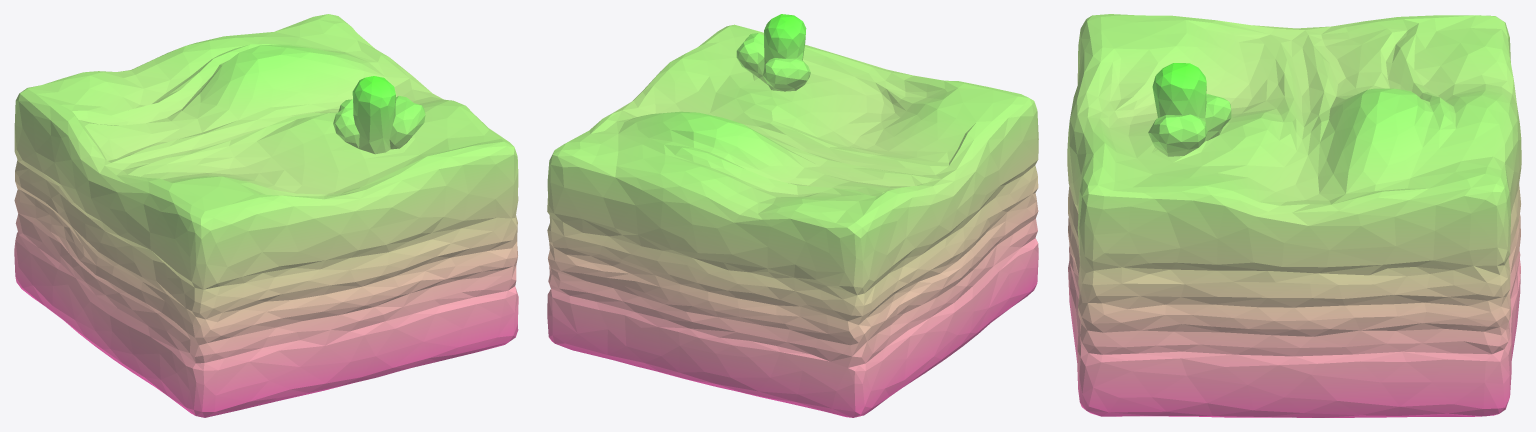
Rendered from 39_cyb_laser_gradient_fish_scales_2890_2026_10_03_a968b9.glb.
The picture shows the model from 3 angles, left to right: view 1: azimuth 30°, elevation 25°; view 2: azimuth 150°, elevation 25°; view 3: azimuth 270°, elevation 25°; orthographic projection. The views are drawn at different scales.
Parts seen in each view (by area): view 1: geometry_0; view 2: geometry_0; view 3: geometry_0.
Part boxes in pixels (box(x1,y1,x2,y2)): geometry_0: box(14, 14, 518, 417); geometry_0: box(547, 14, 1038, 417); geometry_0: box(1067, 14, 1521, 417).
Bounding box in the file's own units: 1 × 0.7307 × 1.
